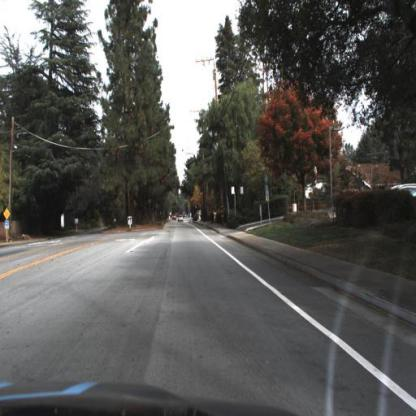car: (177, 211, 185, 227), (178, 213, 186, 226)
